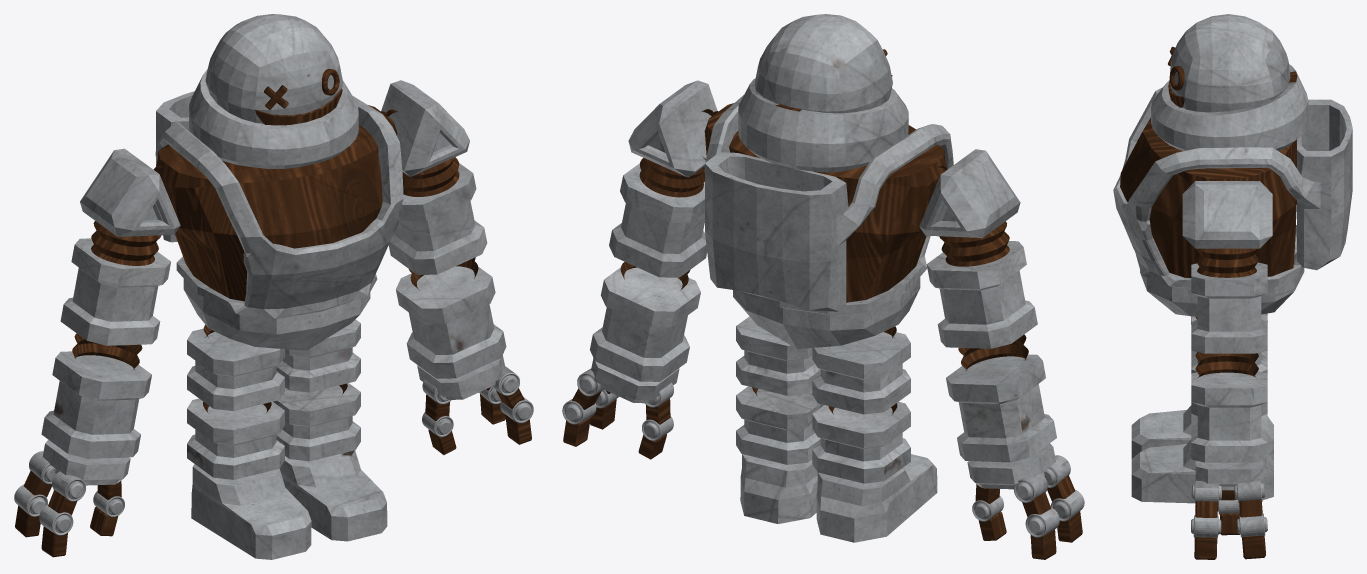
Rendered from cave_Boss_2.fbx.
3 views of the same model, side by side, from view 1: azimuth 30°, elevation 25°; view 2: azimuth 150°, elevation 25°; view 3: azimuth 270°, elevation 25° (orthographic). The views are drawn at different scales.
Visible parts, largest first — view 1: Circle.003; view 2: Circle.003; view 3: Circle.003.
Part boxes in pixels (box(x1,y1,x2,y2)): Circle.003: box(14, 14, 533, 559); Circle.003: box(562, 14, 1084, 559); Circle.003: box(1113, 14, 1352, 559).
Size of the model in its own units: 756 by 729 by 351.
Materials: 3 (3 with a texture image).
